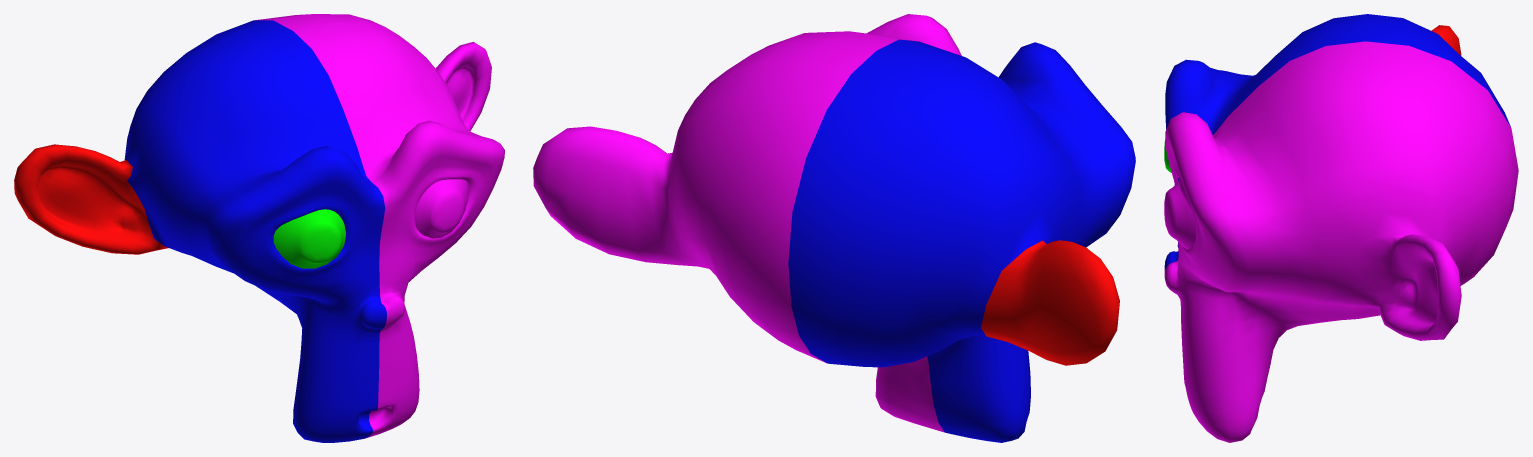
The model's file is blend-suzanne-multiple.glb.
3 renders of one model, left to right at view 1: azimuth 30°, elevation 25°; view 2: azimuth 150°, elevation 25°; view 3: azimuth 270°, elevation 25°, orthographic. The views are drawn at different scales.
Parts seen in each view (by area): view 1: Suzanne; view 2: Suzanne; view 3: Suzanne.
Part boxes in pixels (x1=…): Suzanne: x1=14, y1=14, x2=504, y2=442; Suzanne: x1=533, y1=14, x2=1135, y2=442; Suzanne: x1=1164, y1=14, x2=1518, y2=442.
Size of the model in its own units: 2.65 by 1.91 by 1.6.
Materials: 2 (1 with a texture image).
